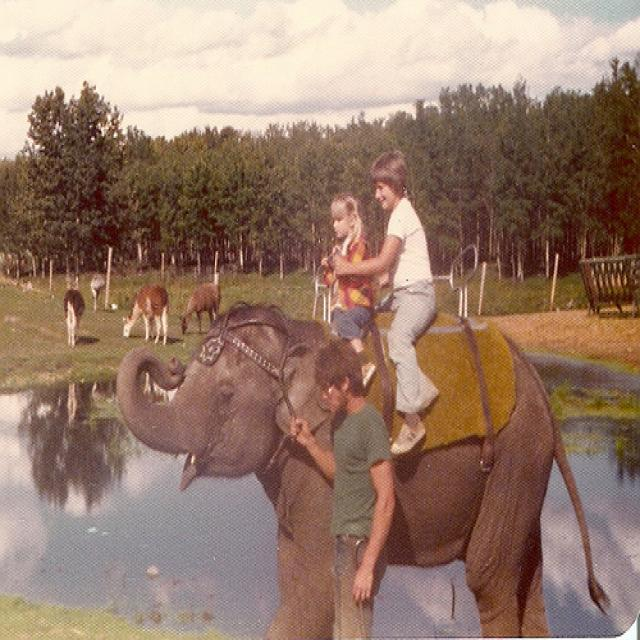cow: (121, 283, 171, 345), (178, 281, 220, 334), (63, 287, 83, 347), (89, 273, 103, 310)
